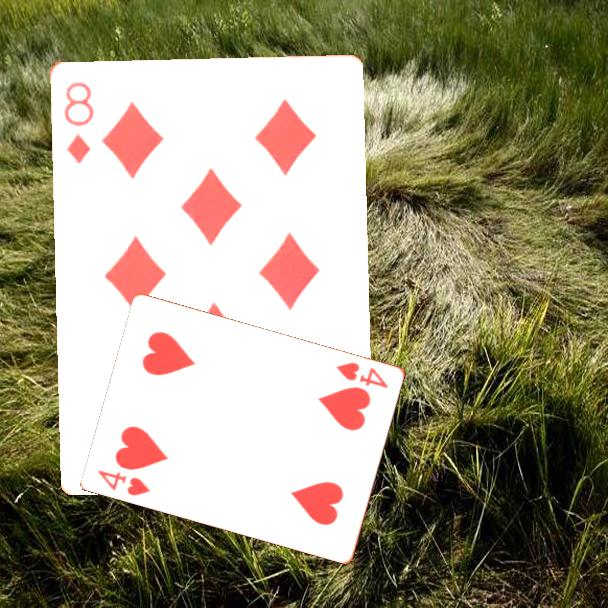d08: (60, 78, 96, 166)
h04: (333, 358, 391, 391), (95, 466, 154, 498)
